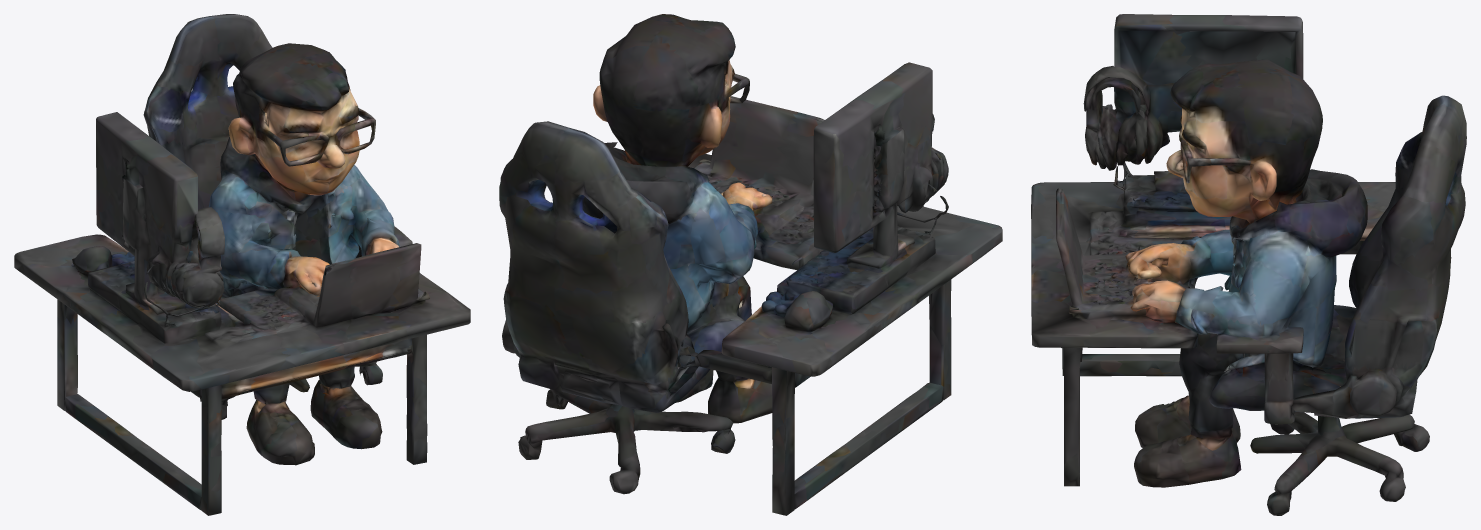
Rendered from avatar-light.glb.
3 views of the same model, side by side, from view 1: azimuth 30°, elevation 25°; view 2: azimuth 150°, elevation 25°; view 3: azimuth 270°, elevation 25° (orthographic). The views are drawn at different scales.
Bounding box in the file's own units: 1.81 × 2 × 1.99.
Materials: 1 (1 with a texture image).
